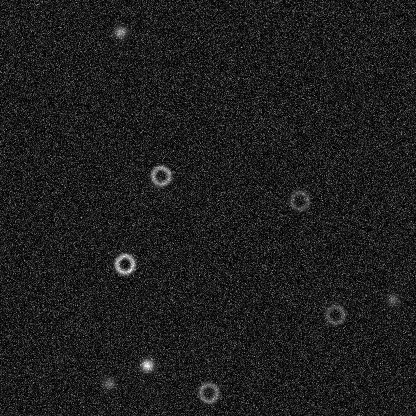Ring: (148, 163, 172, 187), (287, 188, 311, 212), (323, 302, 347, 326), (196, 380, 220, 404), (112, 251, 136, 275)
Spot: (385, 291, 401, 307), (112, 23, 128, 39), (139, 357, 155, 373), (100, 375, 116, 391)
